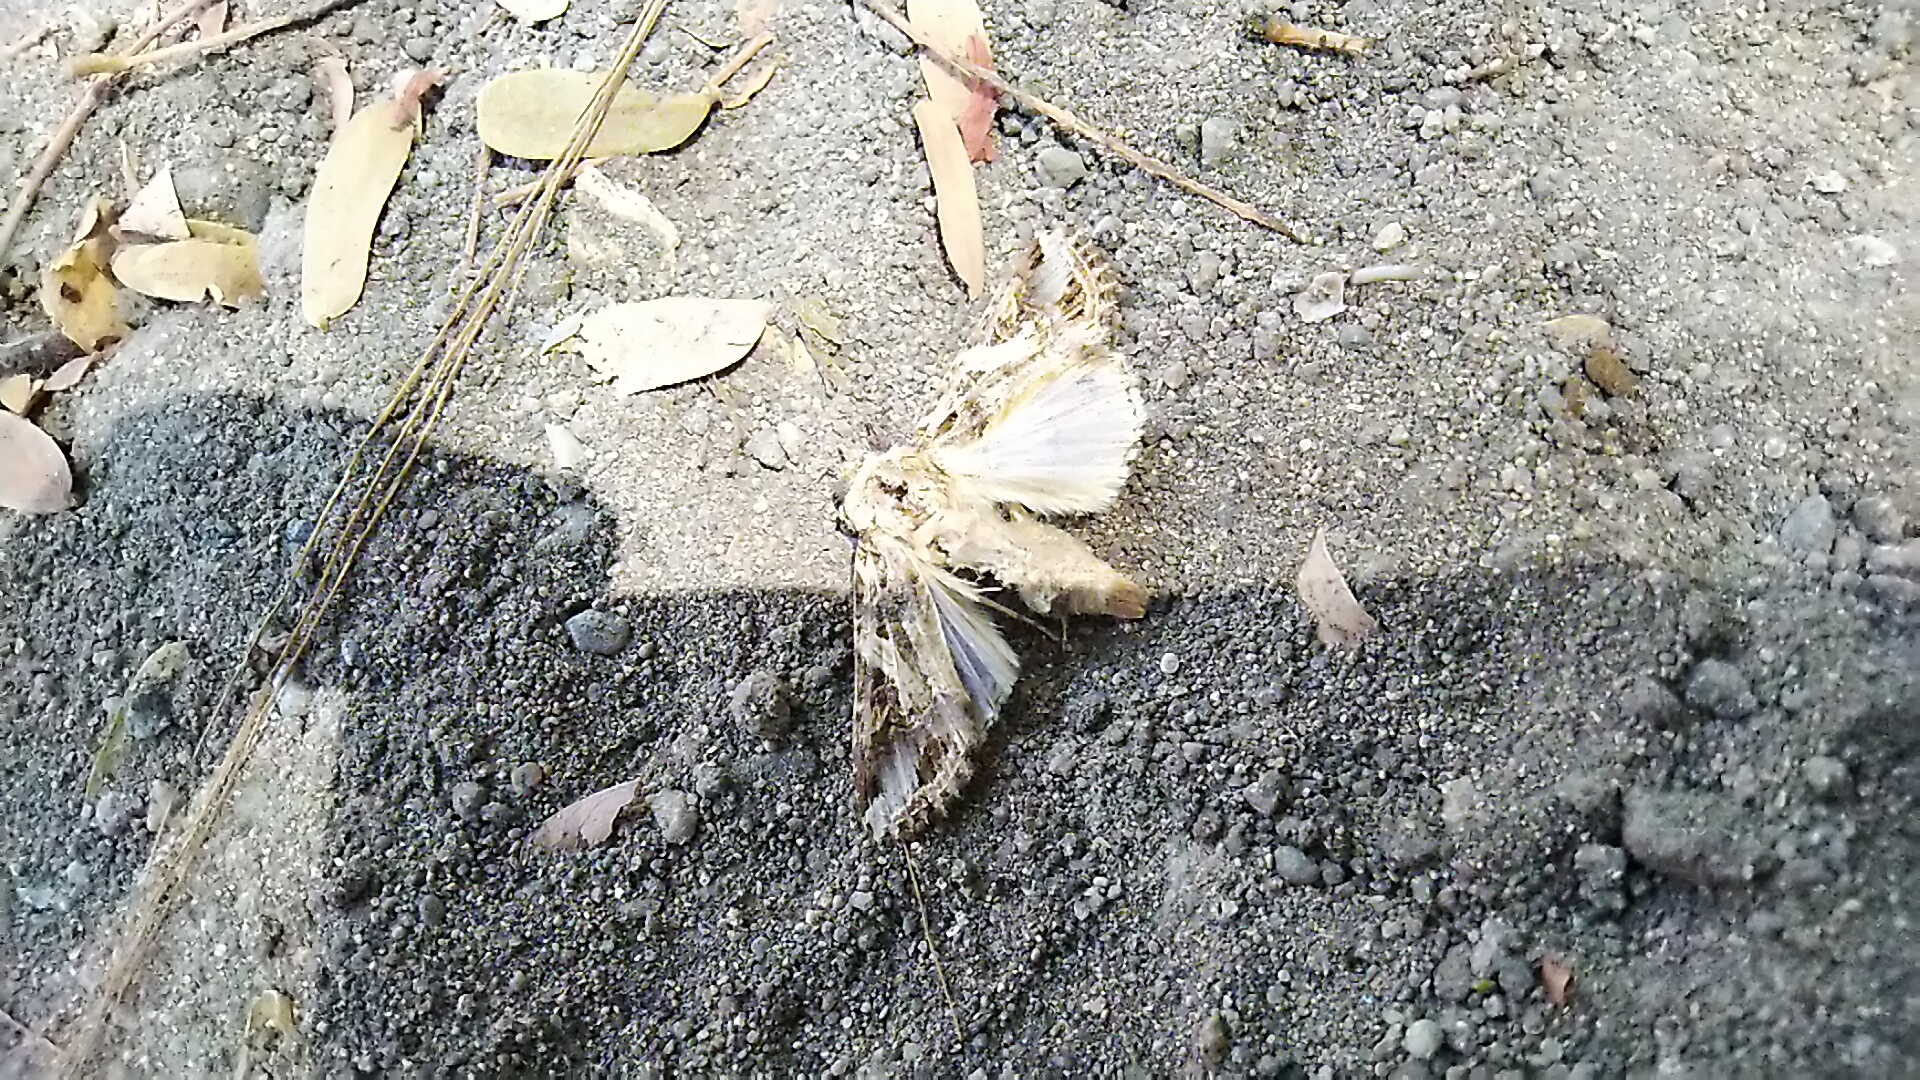INS-B: (786, 233, 1170, 848)
